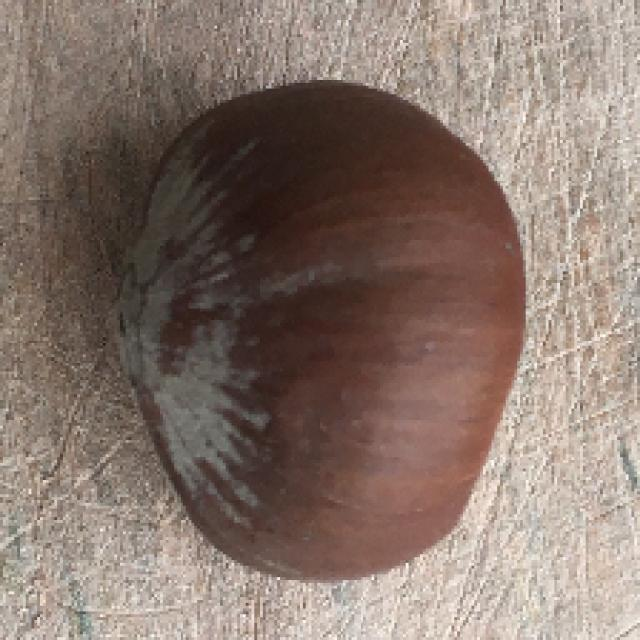qualityHazelnut: (98, 81, 544, 587)
